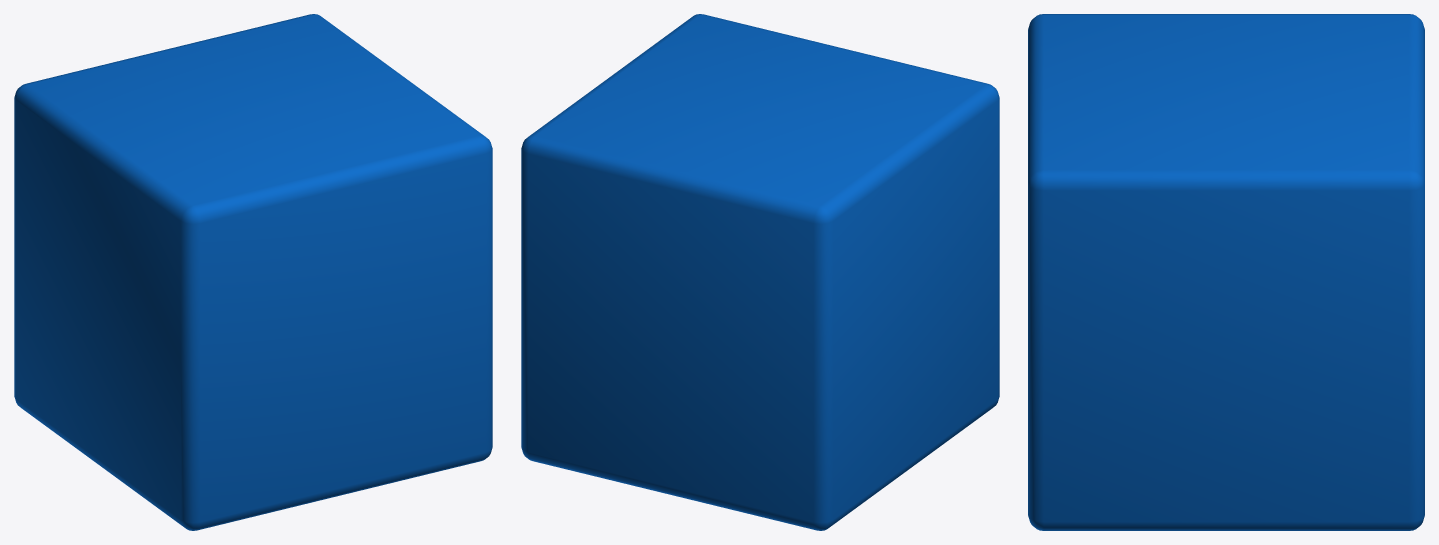
The model's file is SM_ChamferCube.gltf.
3 views of the same model, side by side, from view 1: azimuth 30°, elevation 25°; view 2: azimuth 150°, elevation 25°; view 3: azimuth 270°, elevation 25° (orthographic). The views are drawn at different scales.
Visible parts, largest first — view 1: SM_ChamferCube; view 2: SM_ChamferCube; view 3: SM_ChamferCube.
Part boxes in pixels (x1,y1,x2,y2): SM_ChamferCube: [14, 14, 492, 530]; SM_ChamferCube: [521, 14, 999, 530]; SM_ChamferCube: [1028, 14, 1424, 530].
Size of the model in its own units: 1 by 1 by 1.
